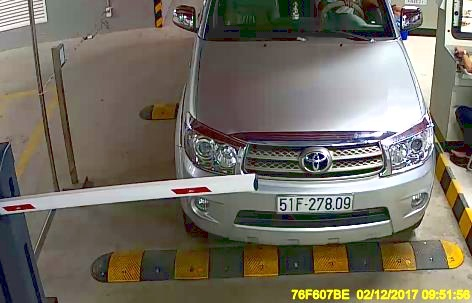plate: (272, 190, 354, 214)
